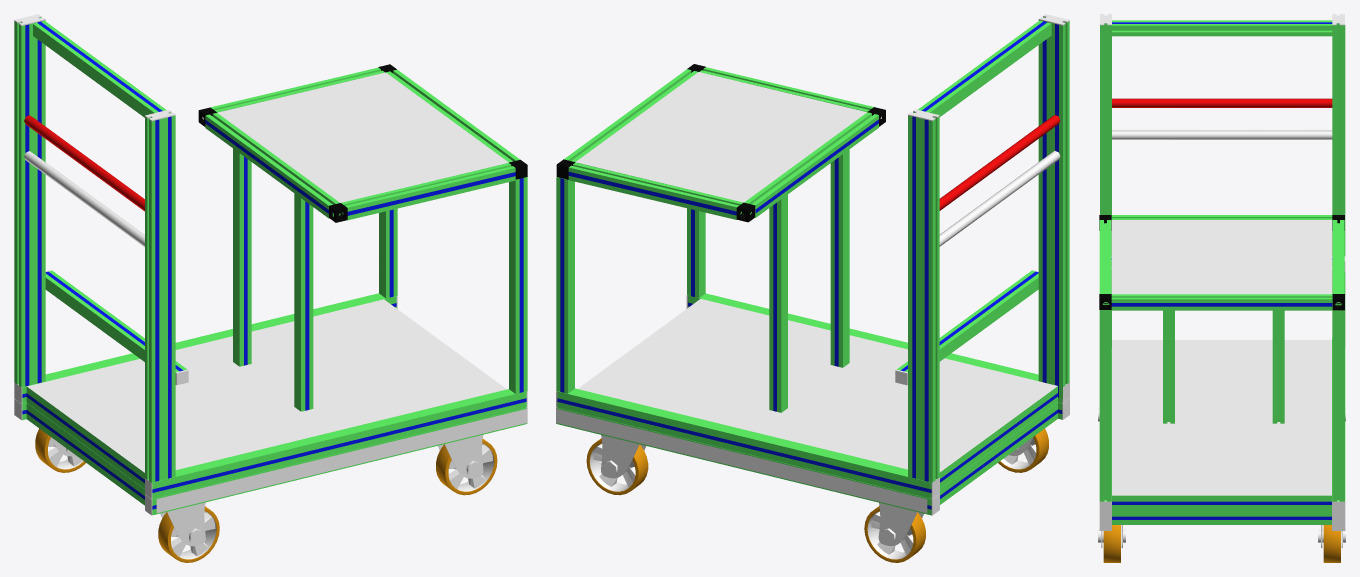
Rendered from RC03 Koch-Backeinheit.FBX.
3 views of the same model, side by side, from view 1: azimuth 30°, elevation 25°; view 2: azimuth 150°, elevation 25°; view 3: azimuth 270°, elevation 25° (orthographic). The views are drawn at different scales.
Visible parts, largest first — view 1: Trolly_8; view 2: Trolly_8; view 3: Trolly_8.
Part boxes in pixels (x1,y1,x2,y2): Trolly_8: (14, 14, 527, 562); Trolly_8: (556, 14, 1069, 562); Trolly_8: (1098, 14, 1345, 562).
Size of the model in its own units: 12.24 by 14.13 by 7.82.
